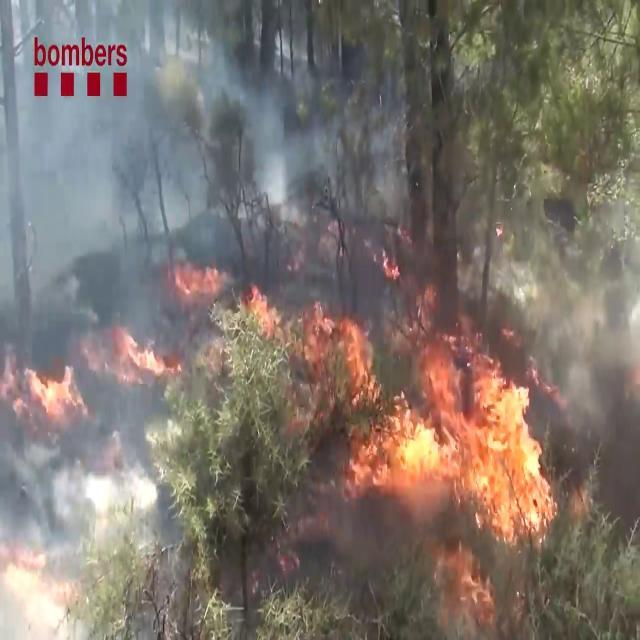Fire: (320, 315, 561, 568), (0, 348, 84, 424)
Smoke: (0, 3, 229, 596), (542, 243, 640, 504)
